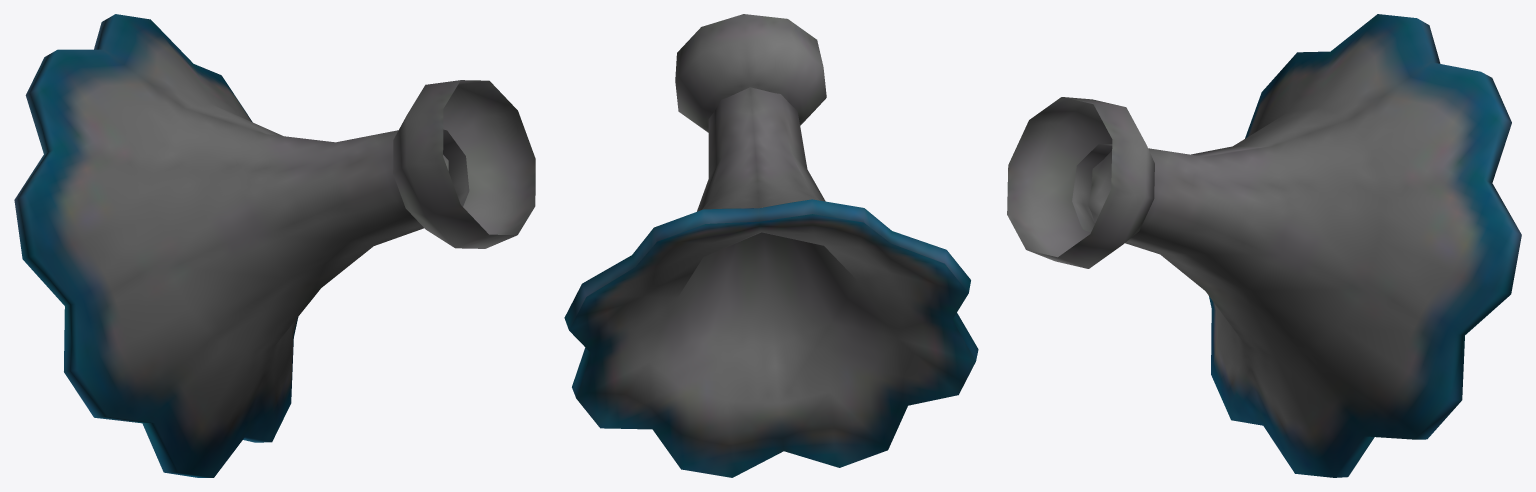
The model's file is JiJiaPao_danqiping_02.FBX.
3 views of the same model, side by side, from view 1: azimuth 30°, elevation 25°; view 2: azimuth 150°, elevation 25°; view 3: azimuth 270°, elevation 25° (orthographic). The views are drawn at different scales.
Visible parts, largest first — view 1: JiJiaPao_danqiping_02; view 2: JiJiaPao_danqiping_02; view 3: JiJiaPao_danqiping_02.
Part boxes in pixels (x1=…): JiJiaPao_danqiping_02: x1=14, y1=14, x2=535, y2=477; JiJiaPao_danqiping_02: x1=564, y1=14, x2=978, y2=477; JiJiaPao_danqiping_02: x1=1007, y1=14, x2=1521, y2=477.
Size of the model in its own units: 0.6905 by 0.6598 by 0.7411.
